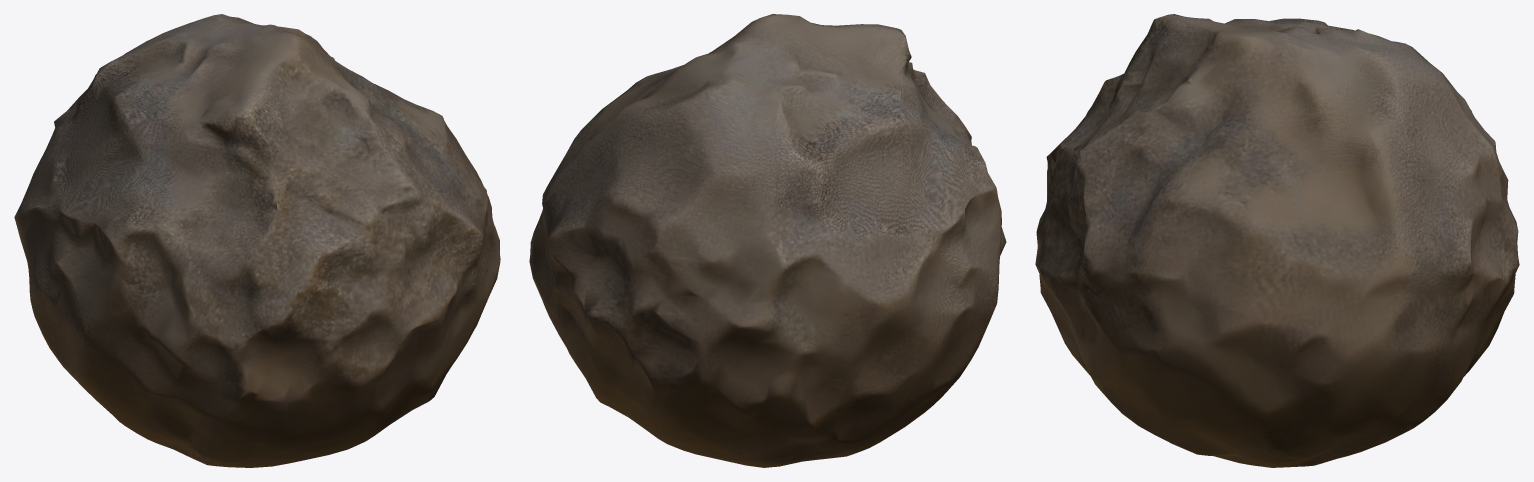
Rendered from kivi.glb.
The picture shows the model from 3 angles, left to right: view 1: azimuth 30°, elevation 25°; view 2: azimuth 150°, elevation 25°; view 3: azimuth 270°, elevation 25°; orthographic projection.
Visible parts, largest first — view 1: tripo_node_a55a5247-d0dd-45af-8605-3325c2e45ab8; view 2: tripo_node_a55a5247-d0dd-45af-8605-3325c2e45ab8; view 3: tripo_node_a55a5247-d0dd-45af-8605-3325c2e45ab8.
Boxes of the visible parts, x1,y1,x2,y2 form: tripo_node_a55a5247-d0dd-45af-8605-3325c2e45ab8: (14,14,500,467); tripo_node_a55a5247-d0dd-45af-8605-3325c2e45ab8: (529,14,1006,467); tripo_node_a55a5247-d0dd-45af-8605-3325c2e45ab8: (1035,14,1519,467).
Bounding box in the file's own units: 0.9971 × 0.9456 × 1.
Materials: 1 (1 with a texture image).
